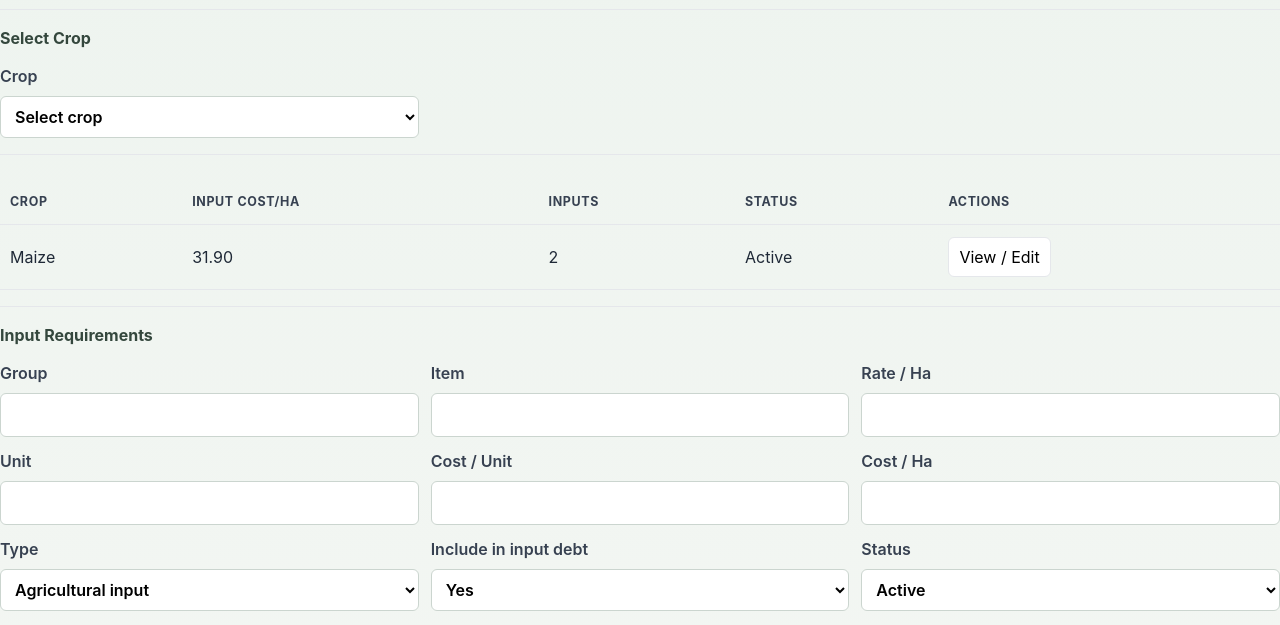
Test: Crop catalogue money display › shows monetary values with two decimal places and keeps the rate precision
Select "Maize" in the dropdown labelled "Crop". click: (209, 117)
box: top-left (0, 96), bottom-right (419, 138)
(page scrolled)
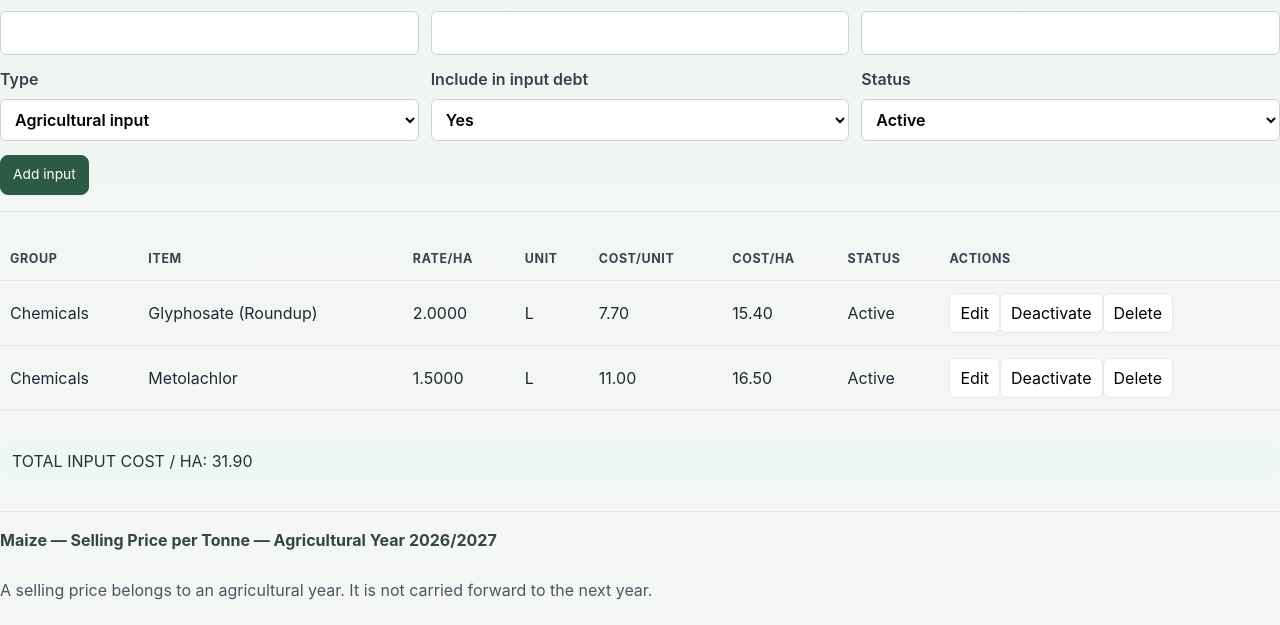
Result: the text "7.70" is shown at top-left (589, 281), bottom-right (722, 346)
Result: the text "15.40" is shown at top-left (722, 281), bottom-right (838, 346)
Result: the text "16.50" is shown at top-left (722, 346), bottom-right (838, 411)
Click the button "Edit" in the row of "Glyphosate (Roundup)". click: click(975, 313)
box: top-left (949, 293), bottom-right (1000, 333)
(page scrolled)
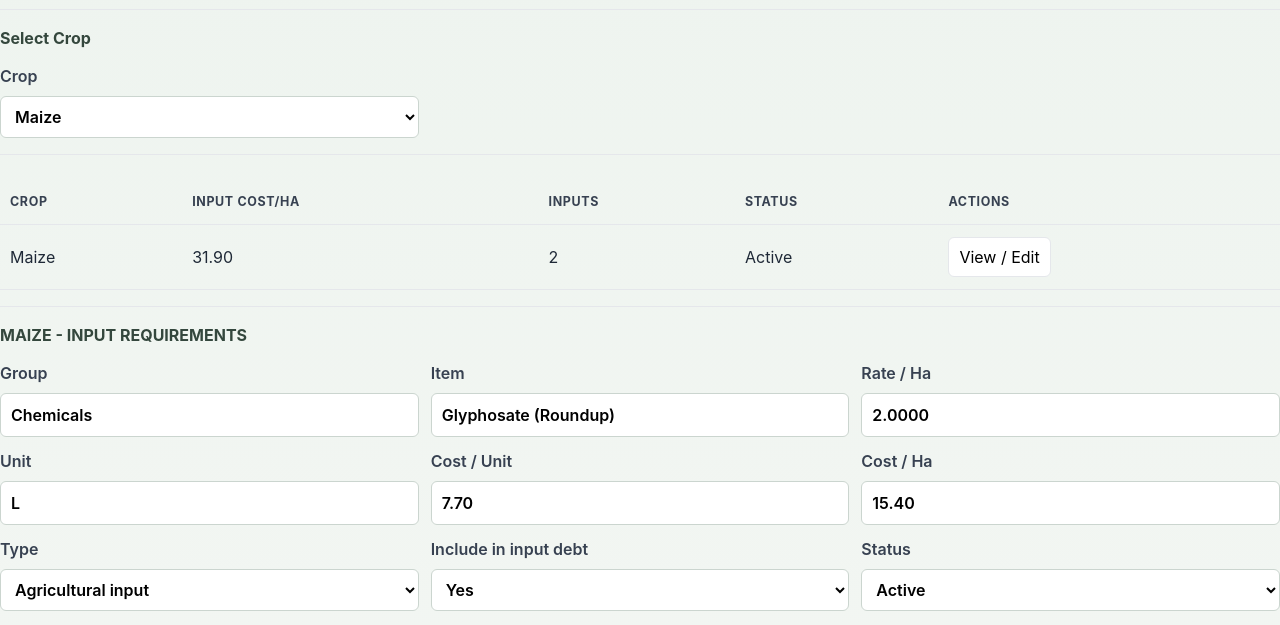
Result: the number field labelled "Cost / Unit" holds "7.70" at top-left (431, 481), bottom-right (849, 525)
Result: the field labelled "Cost / Ha" holds "15.40" at top-left (861, 481), bottom-right (1279, 525)
